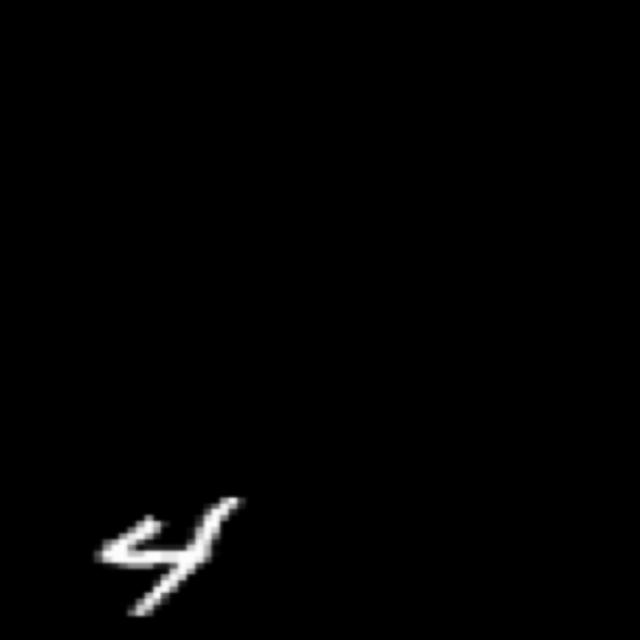four -4-: (73, 488, 262, 625)
